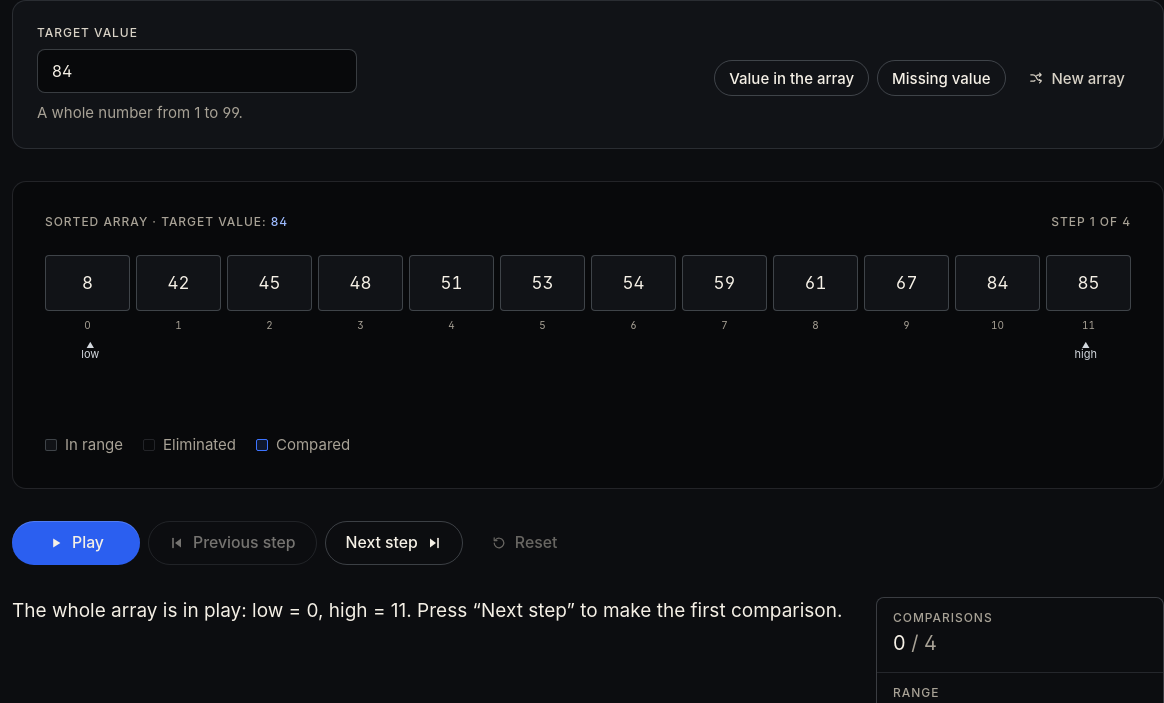
BinarySearchVisualizer › validates the target input without losing focus
The width and height of the screenshot is (1164, 703).
Step 1. Replace the text in the field labelled "Target value" with "abc" → (197, 71), box [37, 49, 357, 93]
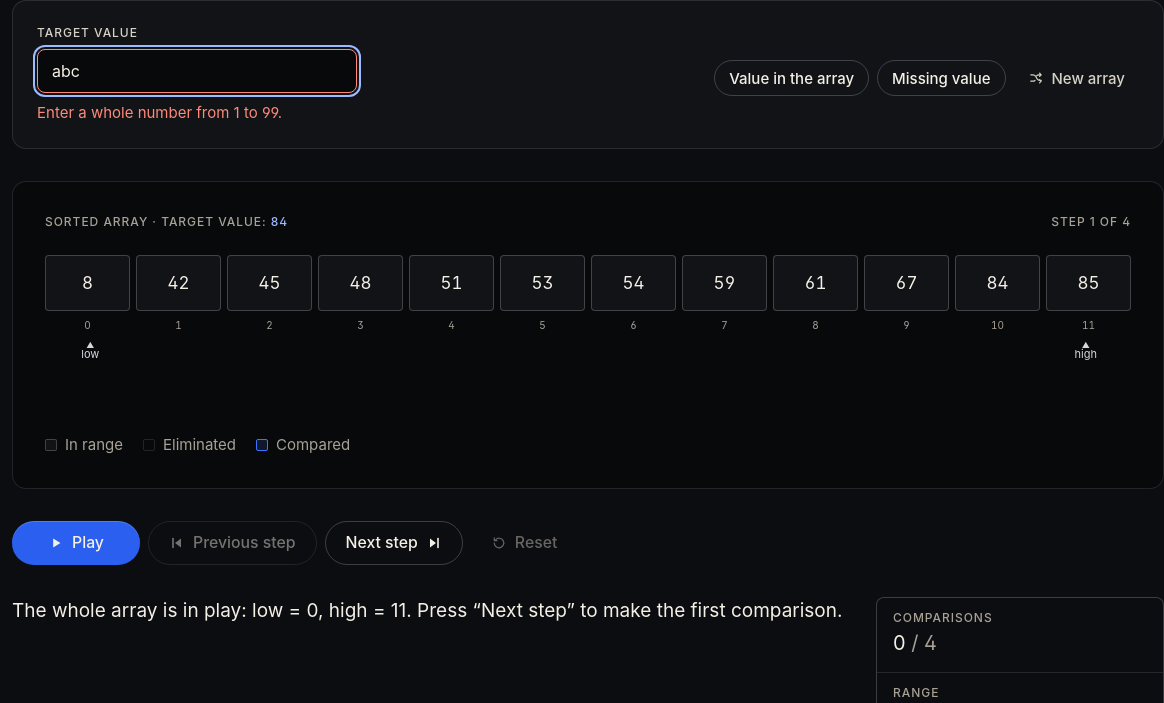
expect the message reads "Enter a whole number from 1 to 99.": met, box [37, 103, 282, 122]
Step 2. Replace the text in the field labelled "Target value" with "42" → (197, 71), box [37, 49, 357, 93]
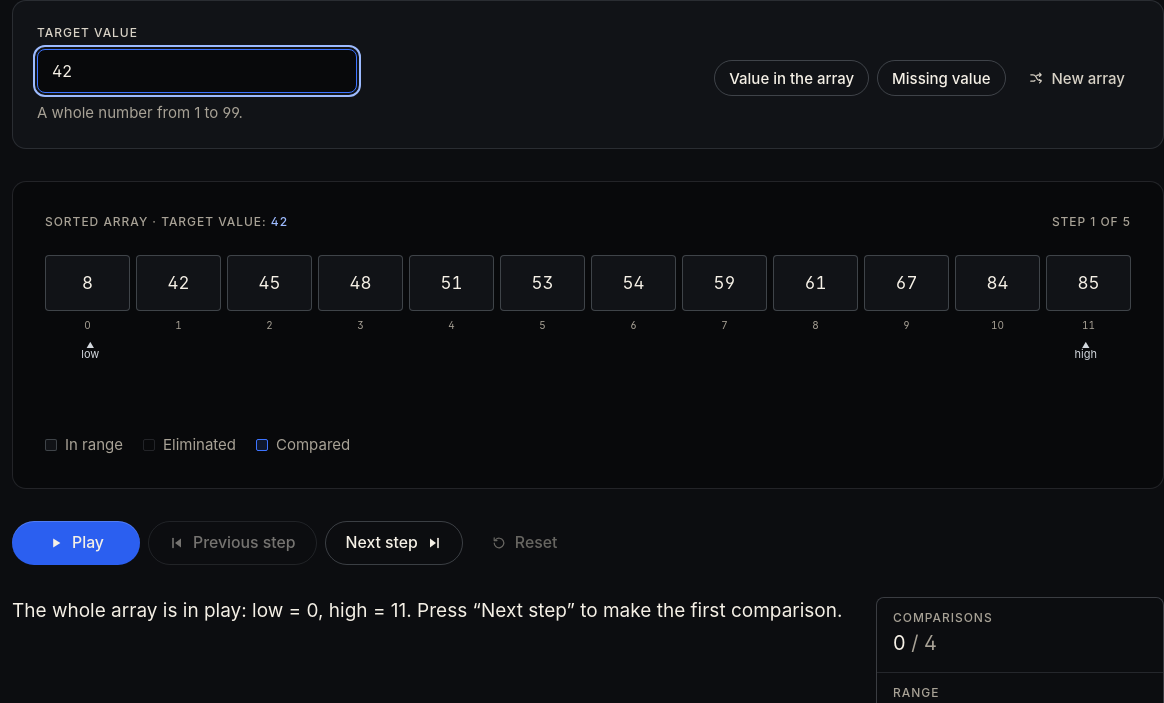
expect the message "Enter a whole number from 1 to 99." is gone: met
expect the text "Sorted array · Target value: 42" is shown: met, box [45, 214, 288, 231]
